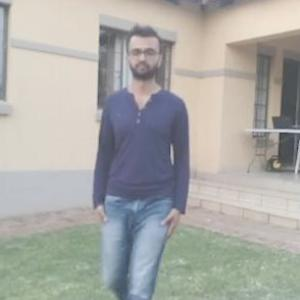follow: (96, 27, 194, 299)
